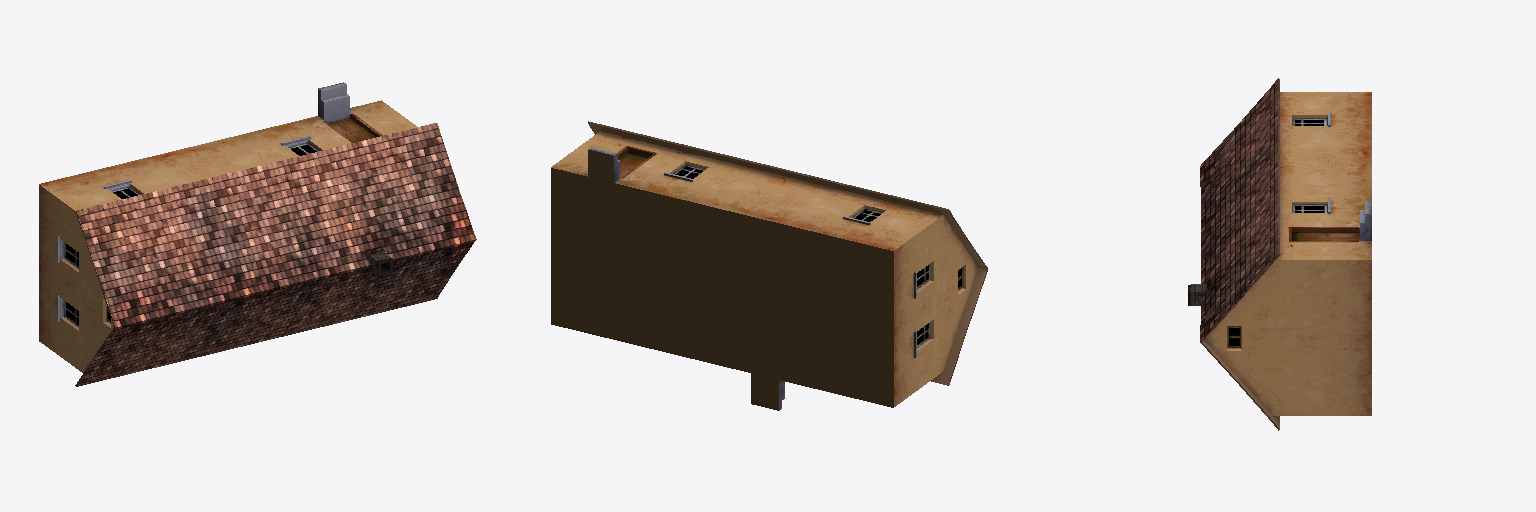
3 renders of one model, left to right at view 1: azimuth 30°, elevation 25°; view 2: azimuth 150°, elevation 25°; view 3: azimuth 270°, elevation 25°, orthographic.
Visible parts, largest first — view 1: pHouse; view 2: pHouse; view 3: pHouse.
Part boxes in pixels (bbox=[...]): pHouse: bbox=[39, 82, 476, 386]; pHouse: bbox=[551, 121, 987, 410]; pHouse: bbox=[1188, 78, 1371, 430].
Size of the model in its own units: 96.63 by 54.98 by 42.57.
Materials: 1 (1 with a texture image).